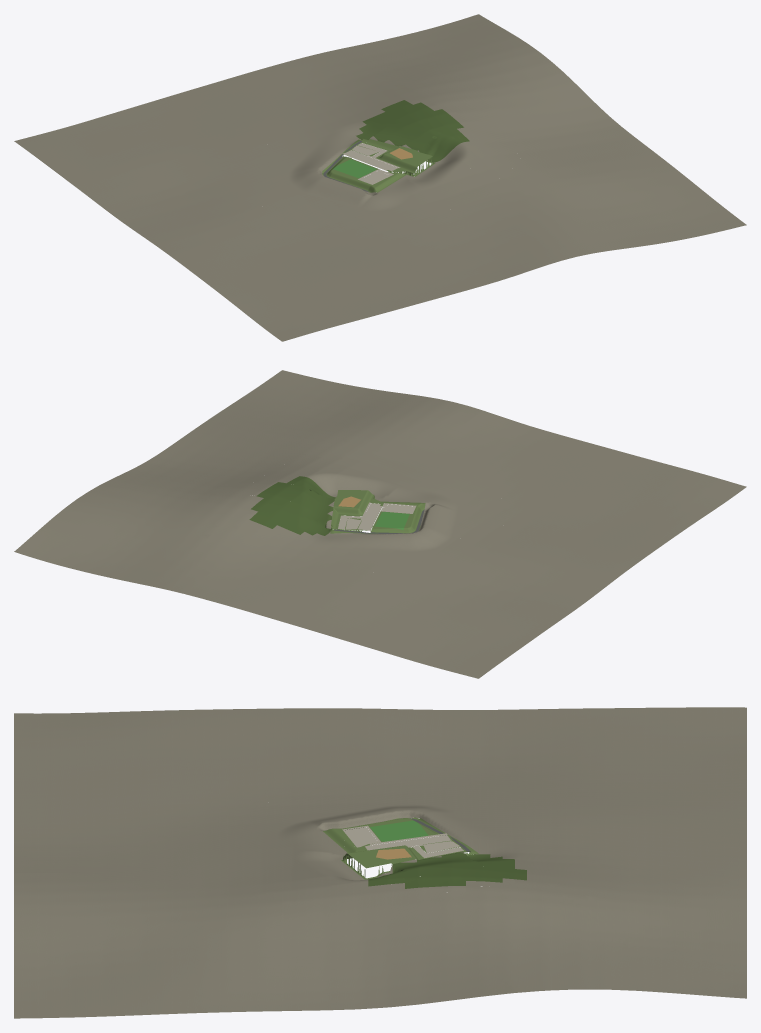
The picture shows the model from 3 angles, top to bottom: view 1: azimuth 30°, elevation 25°; view 2: azimuth 150°, elevation 25°; view 3: azimuth 270°, elevation 25°; orthographic projection. The views are drawn at different scales.
Parts seen in each view (by area): view 1: ground_context-estimated, surface_school-planted, surface_terrace-planted; view 2: ground_context-estimated, surface_terrace-planted, surface_school-planted; view 3: ground_context-estimated, surface_school-planted, surface_terrace-planted, surface_sports-field.
Part boxes in pixels (x1,y1,x2,y2): ground_context-estimated: [14, 14, 746, 341]; surface_school-planted: [322, 139, 435, 192]; surface_terrace-planted: [342, 139, 432, 173]; ground_context-estimated: [14, 370, 746, 678]; surface_terrace-planted: [332, 490, 382, 530]; surface_school-planted: [330, 496, 425, 533]; ground_context-estimated: [14, 707, 746, 1018]; surface_school-planted: [323, 817, 478, 879]; surface_terrace-planted: [343, 833, 470, 868]; surface_sports-field: [370, 820, 428, 841].
Size of the model in its own units: 720 by 48.29 by 720.
7 materials, 7 textured.
